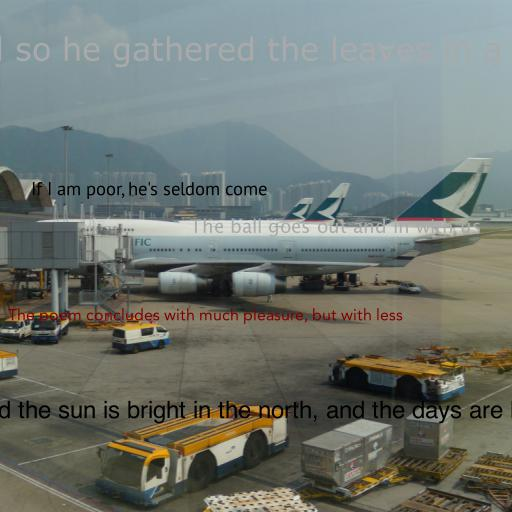Avenir: (7, 308, 403, 324)
Helvetica: (0, 400, 512, 424)
Lucida Grande: (190, 218, 482, 237)
PT Sans: (31, 182, 267, 199)
Verdana: (0, 36, 512, 68)
